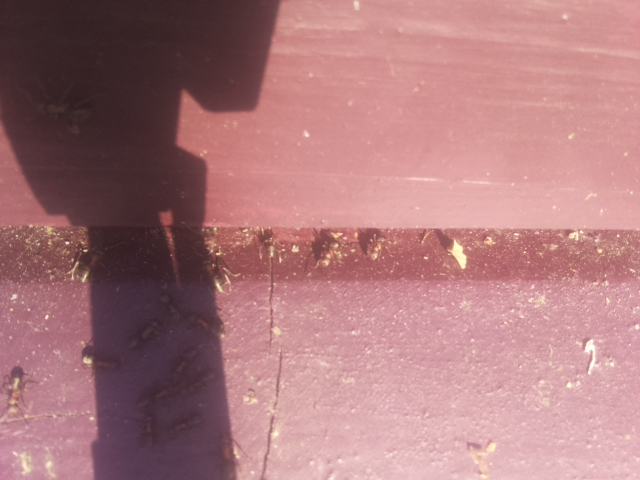ant: (41, 90, 98, 142), (0, 361, 37, 421), (61, 235, 100, 287), (121, 315, 167, 358), (200, 241, 235, 297), (179, 307, 231, 342), (70, 340, 122, 371), (465, 438, 496, 476), (579, 332, 604, 378), (136, 411, 160, 451), (168, 411, 207, 435)
